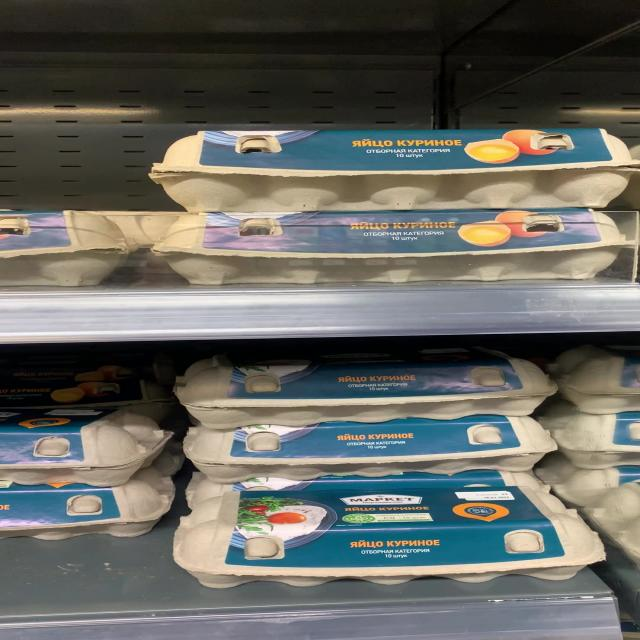egg box: (172, 488, 611, 589), (142, 125, 630, 206), (152, 210, 632, 280), (166, 351, 552, 428), (177, 415, 559, 477)
